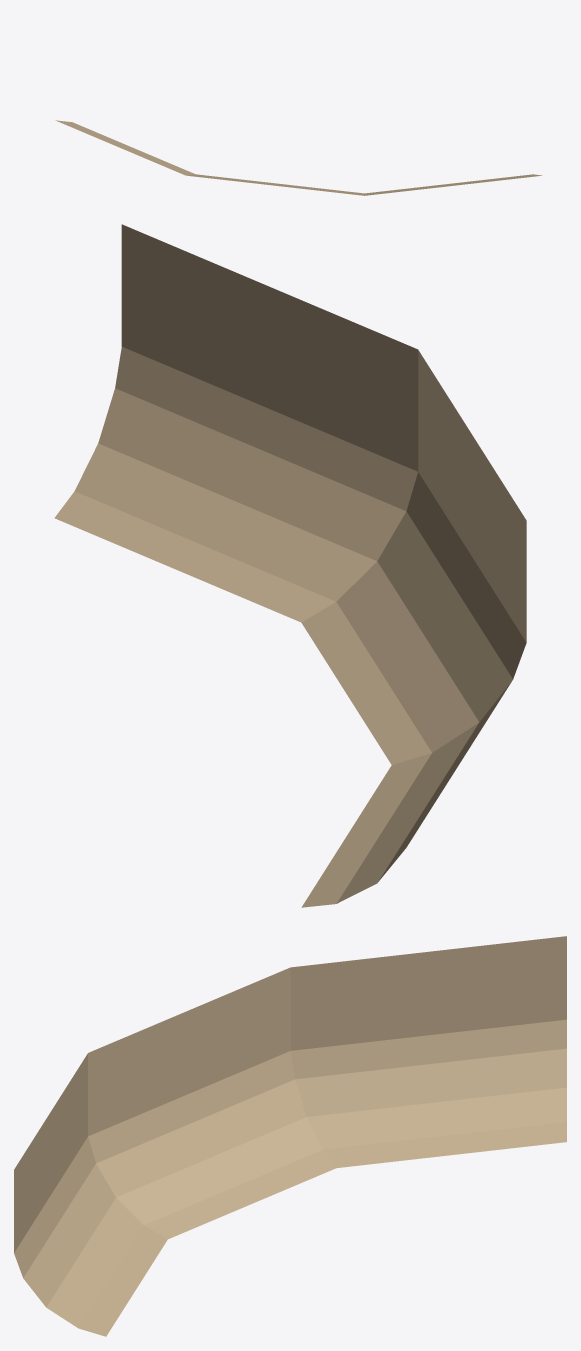
The model's file is Escarpment_Terrain_Corner_Inner_3x3_Base.glb.
The picture shows the model from 3 angles, top to bottom: view 1: azimuth 30°, elevation 25°; view 2: azimuth 150°, elevation 25°; view 3: azimuth 270°, elevation 25°; orthographic projection. The views are drawn at different scales.
Visible parts, largest first — view 1: Escarpment_Terrain_Corner_Inner_3x3_Base; view 2: Escarpment_Terrain_Corner_Inner_3x3_Base; view 3: Escarpment_Terrain_Corner_Inner_3x3_Base.
Part boxes in pixels (<box>): Escarpment_Terrain_Corner_Inner_3x3_Base: <box>55,120,541,195</box>; Escarpment_Terrain_Corner_Inner_3x3_Base: <box>54,224,526,907</box>; Escarpment_Terrain_Corner_Inner_3x3_Base: <box>14,936,566,1336</box>.
Size of the model in its own units: 3 by 1 by 3.
